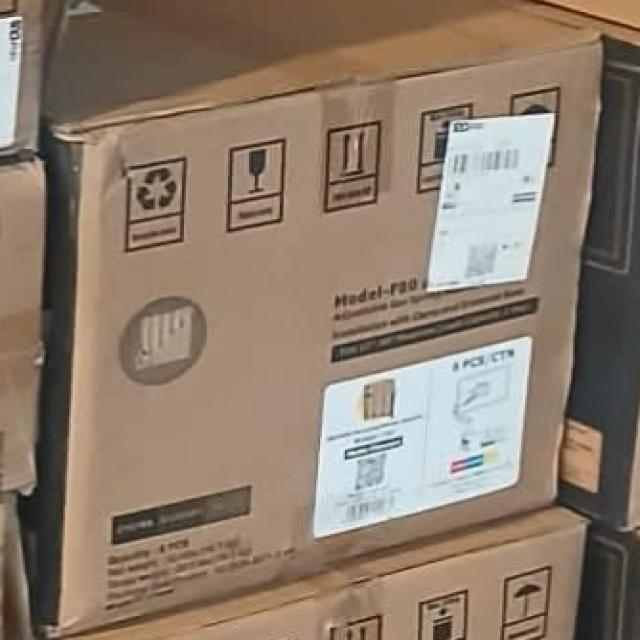carton_box: (52, 12, 613, 640), (72, 508, 640, 640)
export_mark_label: (428, 105, 552, 294)
fragile_label: (222, 130, 293, 235)
keep_dry_label: (496, 570, 560, 640)
this_side_up_label: (320, 114, 393, 215)
